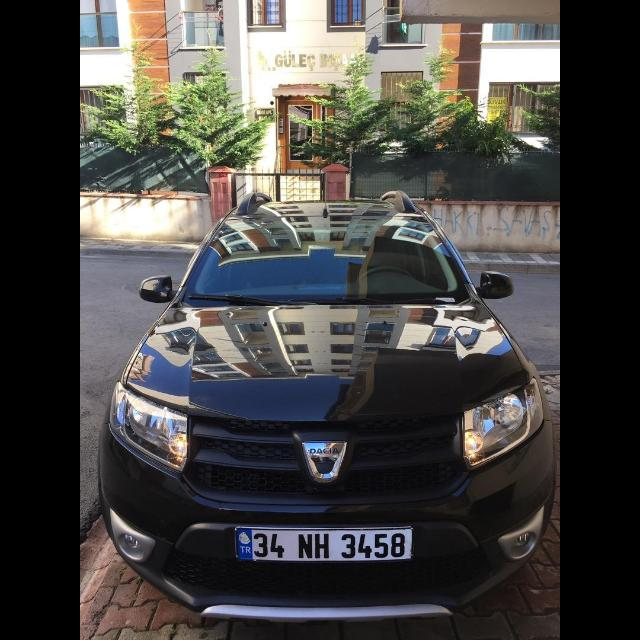Plaka: (238, 532, 412, 562)
